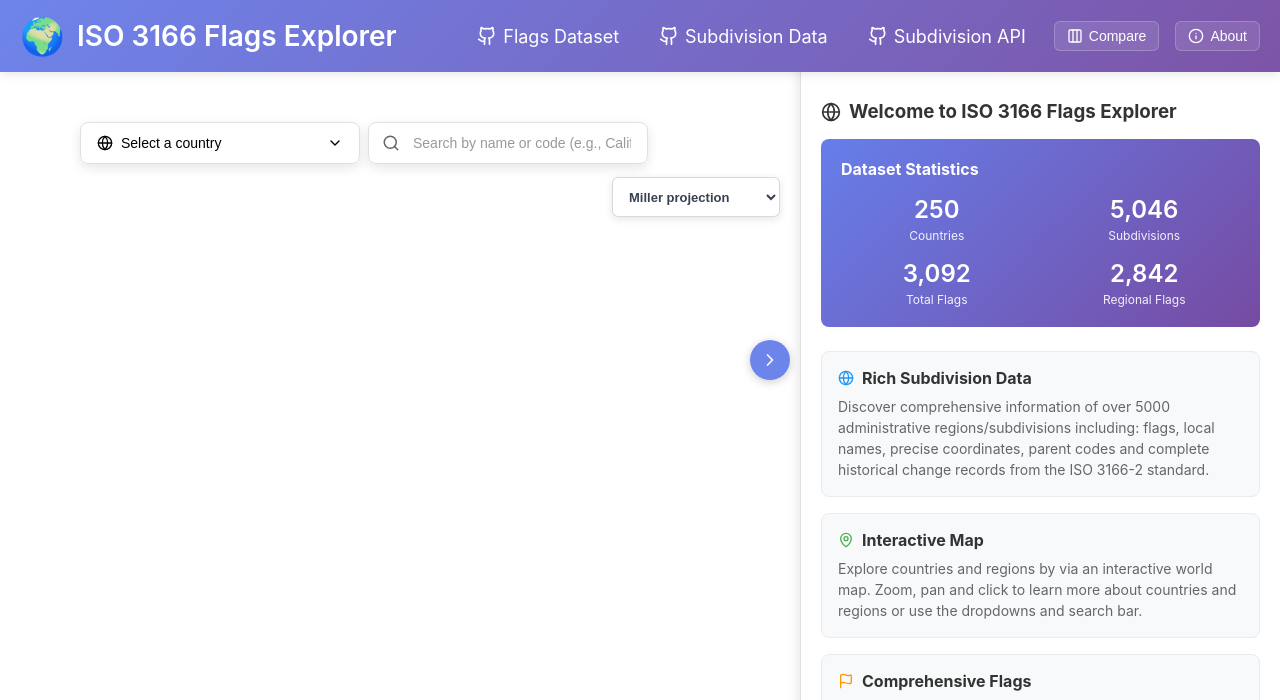
Test: Country Selection Workflow › should close the dropdown and load subdivision data after selecting a country
Click the button with test id "country-dropdown-trigger" at (220, 143), box [80,122,360,164]
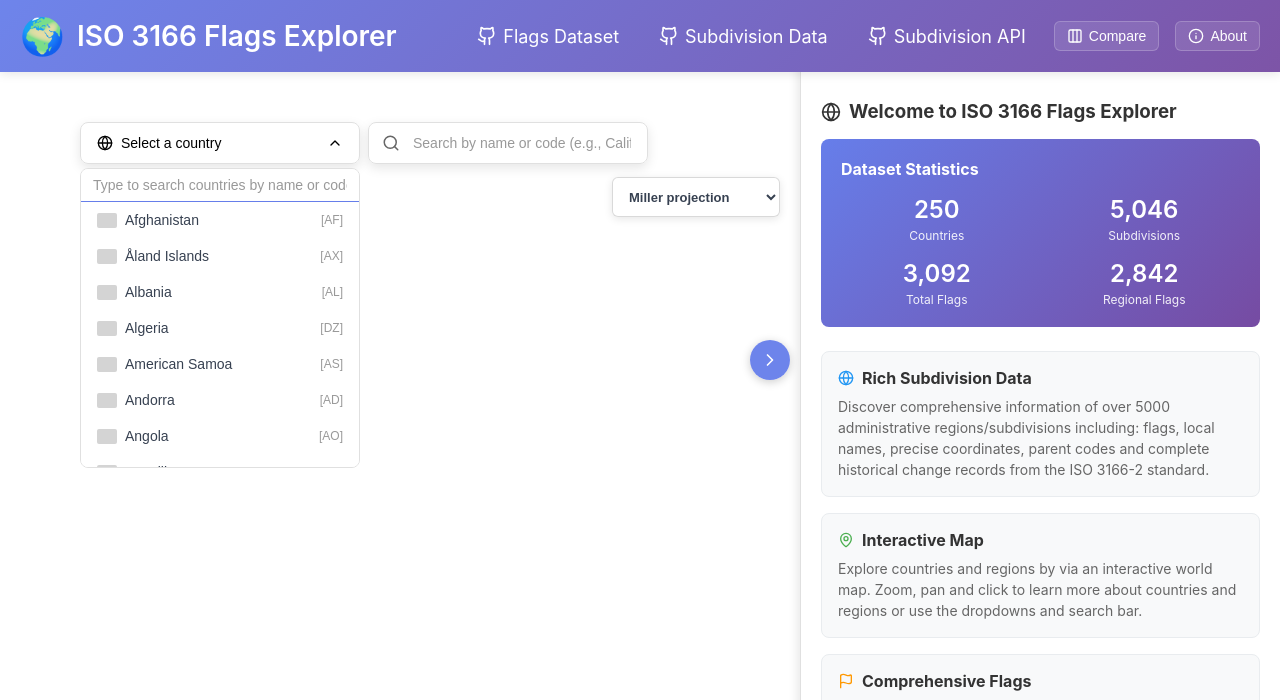
Type "Germany" into the field with test id "country-dropdown-search" at (220, 186), box [81,169,359,202]
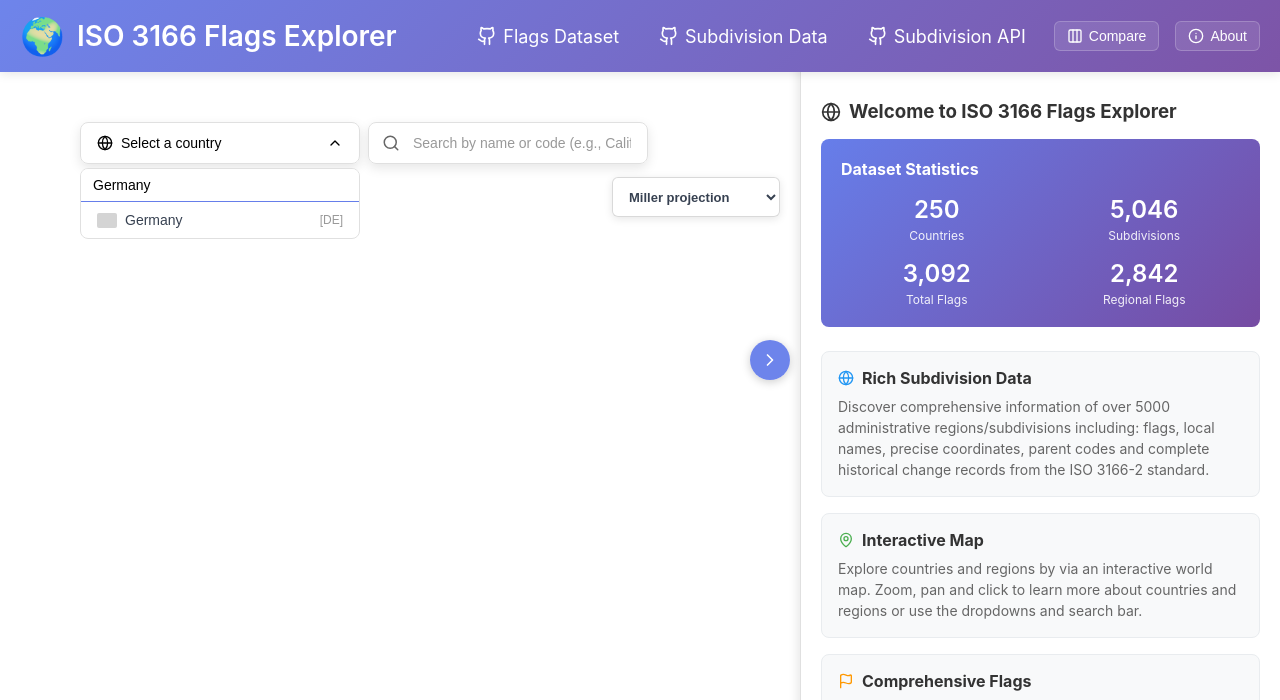
Click the option with test id "country-option-DE" at (154, 220), box [81,202,359,238]
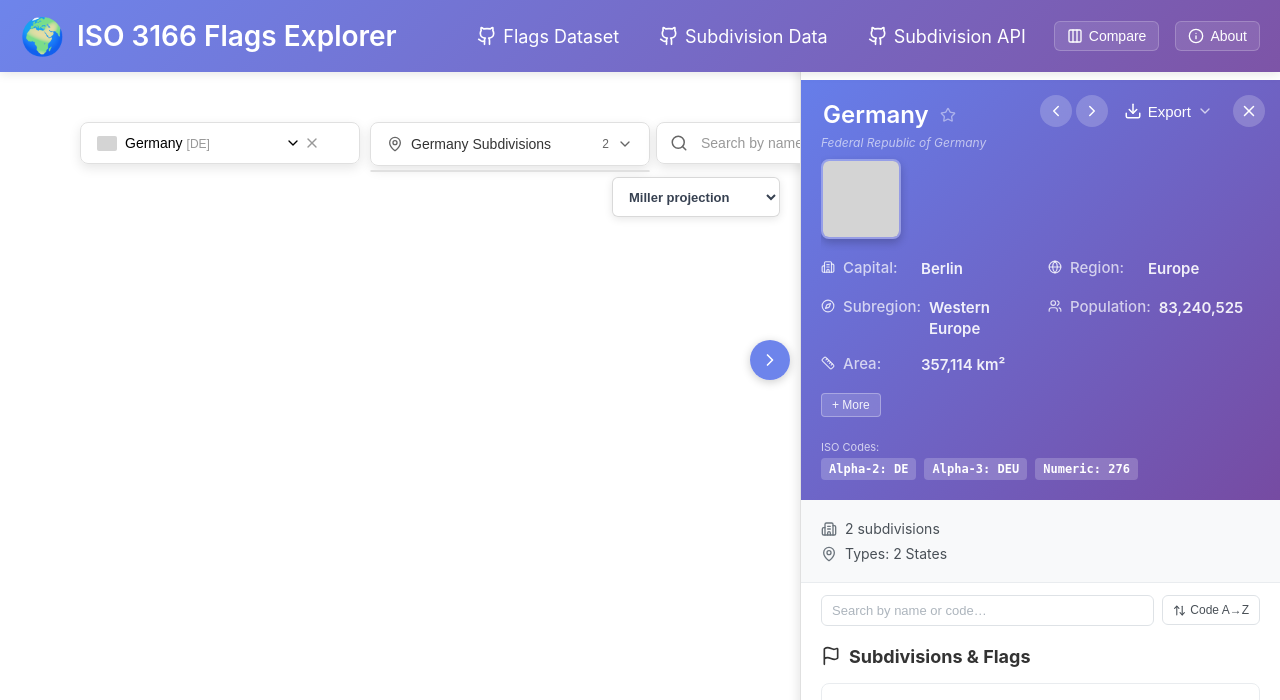
Now the field with test id "country-dropdown-list" is gone
